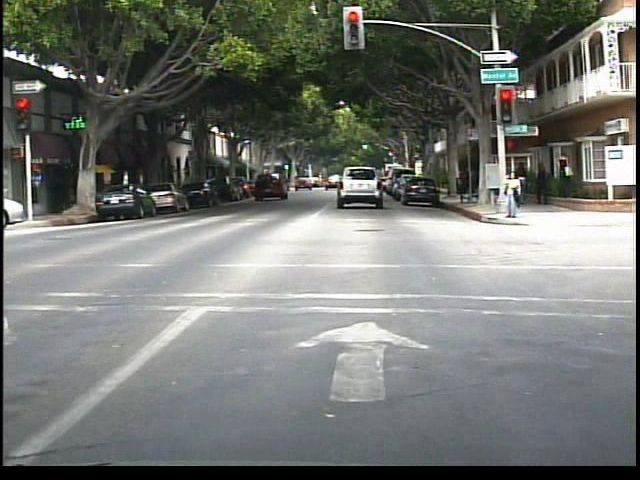person: (497, 167, 523, 220), (554, 149, 576, 198), (530, 157, 550, 209), (516, 156, 530, 193)
